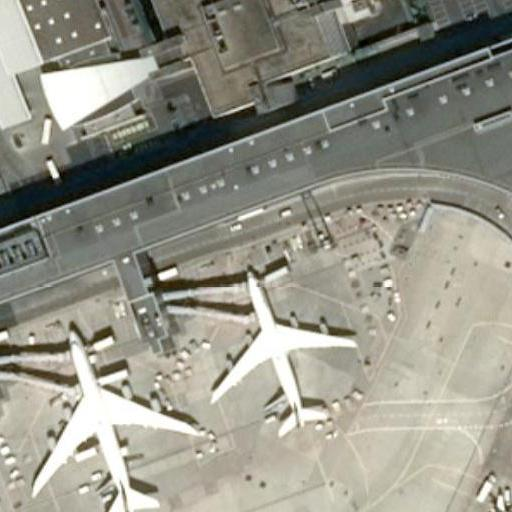Aircraft: (25, 323, 199, 512), (25, 320, 191, 512), (206, 263, 356, 440), (205, 264, 356, 435), (483, 467, 512, 512), (481, 479, 512, 512)
